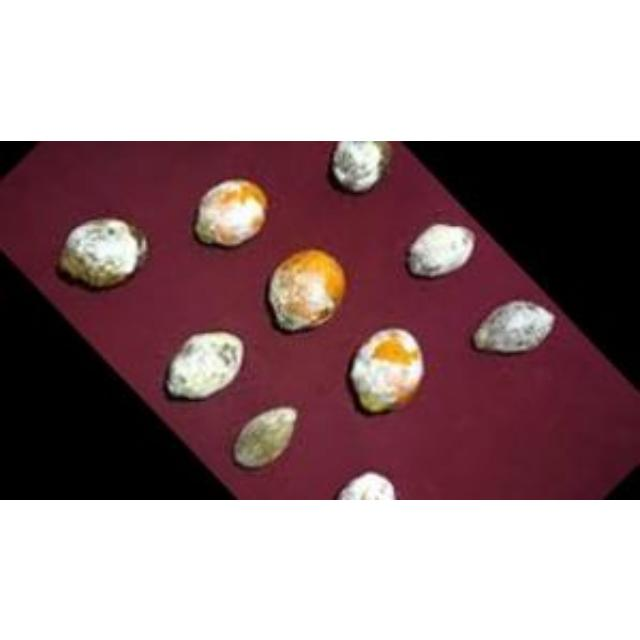damaged: (267, 246, 347, 330), (349, 326, 426, 412), (60, 217, 146, 287), (166, 330, 244, 400), (194, 176, 268, 248), (471, 298, 557, 354), (233, 406, 299, 468), (406, 222, 474, 278), (331, 141, 391, 193)
